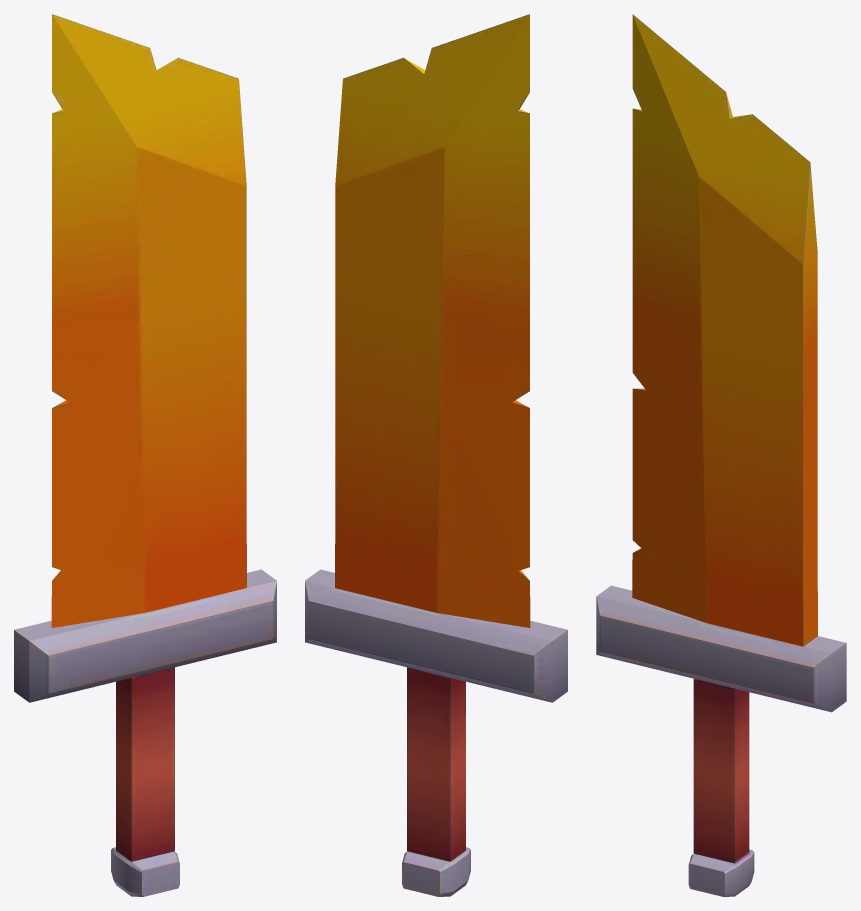
The model's file is espada_05.glb.
3 views of the same model, side by side, from view 1: azimuth 30°, elevation 25°; view 2: azimuth 150°, elevation 25°; view 3: azimuth 330°, elevation 25° (orthographic). The views are drawn at different scales.
Parts seen in each view (by area): view 1: ASSET_5_OK_5_All_0; view 2: ASSET_5_OK_5_All_0; view 3: ASSET_5_OK_5_All_0.
Boxes of the visible parts, x1=… form: ASSET_5_OK_5_All_0: x1=14, y1=14, x2=276, y2=896; ASSET_5_OK_5_All_0: x1=305, y1=14, x2=567, y2=896; ASSET_5_OK_5_All_0: x1=596, y1=14, x2=846, y2=896.
Size of the model in its own units: 1.85 by 6.4 by 0.3998.
Materials: 1 (1 with a texture image).
